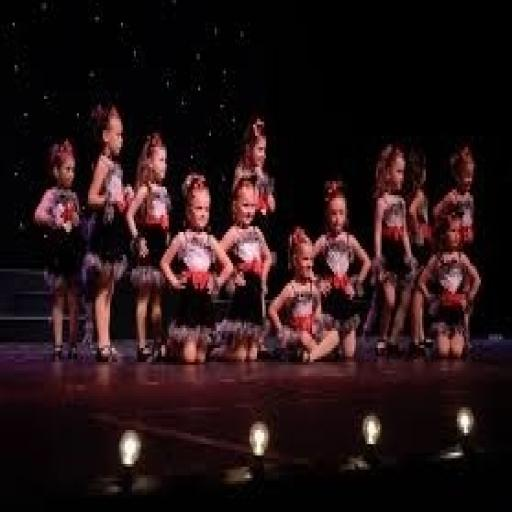dancing: (31, 133, 88, 365)
